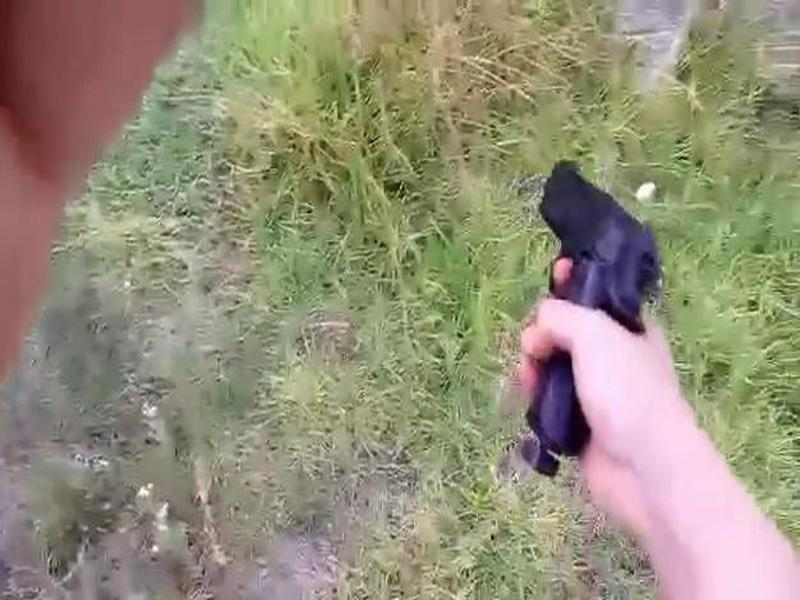Pistola: (510, 129, 657, 476)
